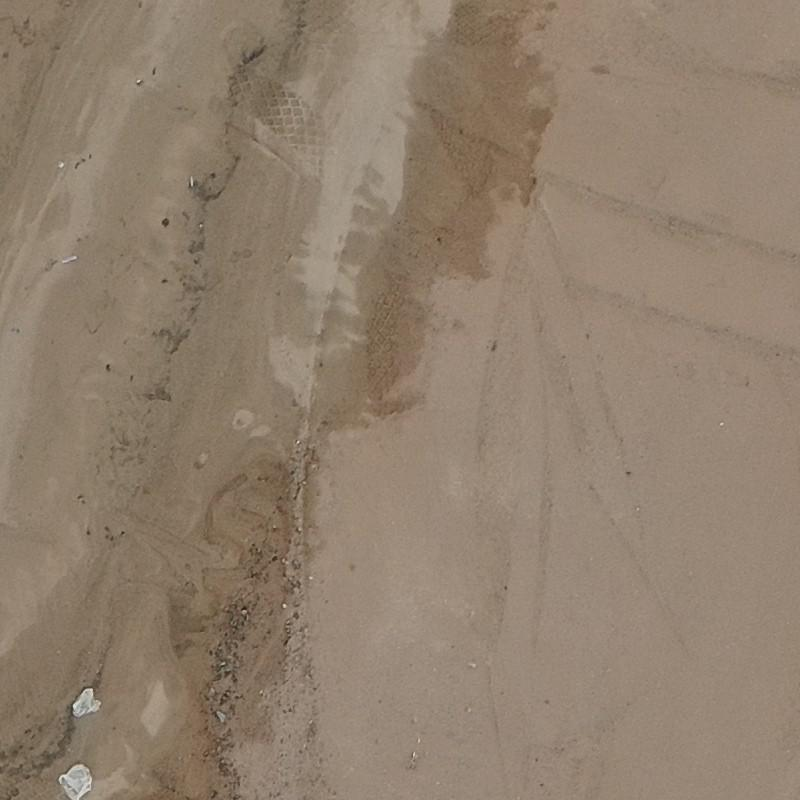coastal_litter: (60, 762, 93, 800), (70, 688, 101, 716)
